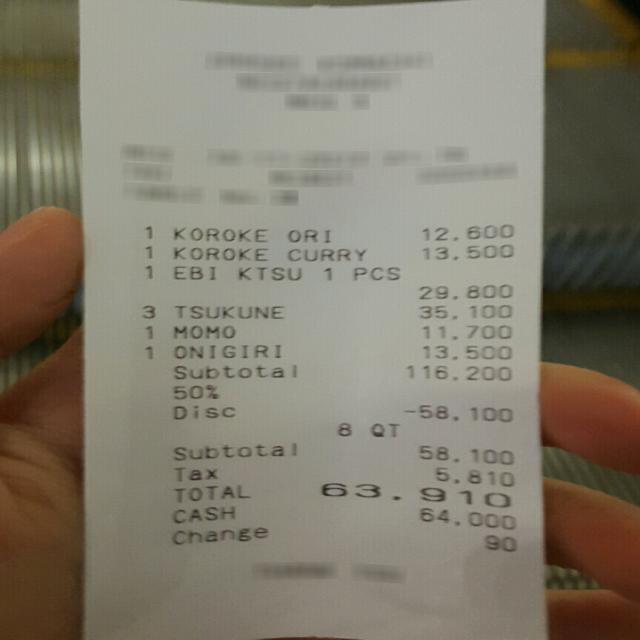kertas: (80, 0, 545, 640)
